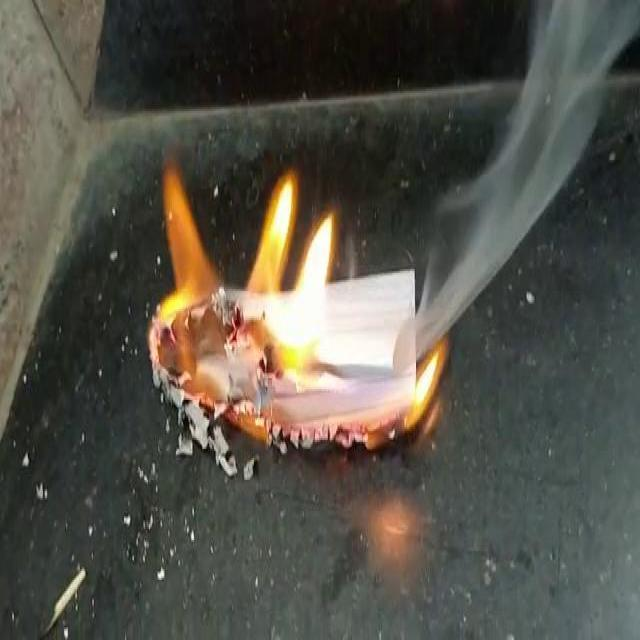Fire: (142, 172, 340, 380), (407, 356, 472, 449)
Smoke: (416, 7, 640, 336)
